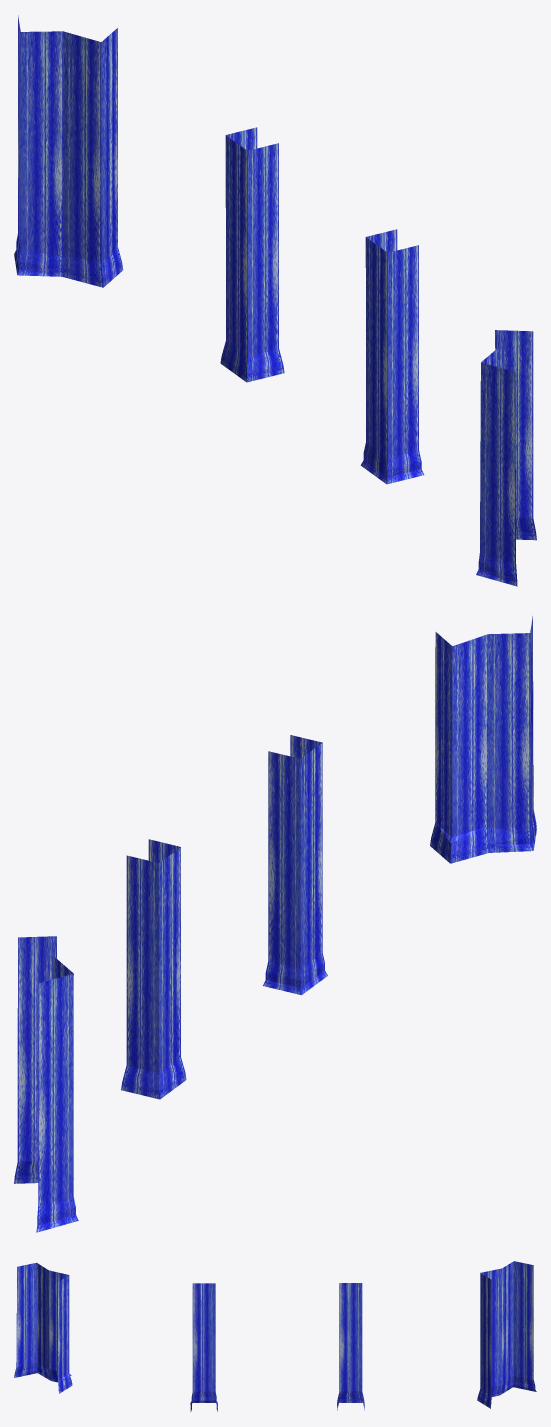
3 views of the same model, one above another, from view 1: azimuth 30°, elevation 25°; view 2: azimuth 150°, elevation 25°; view 3: azimuth 270°, elevation 25° (orthographic). The views are drawn at different scales.
Size of the model in its own units: 0.1762 by 0.407 by 1.51.
1 material, 1 textured.
